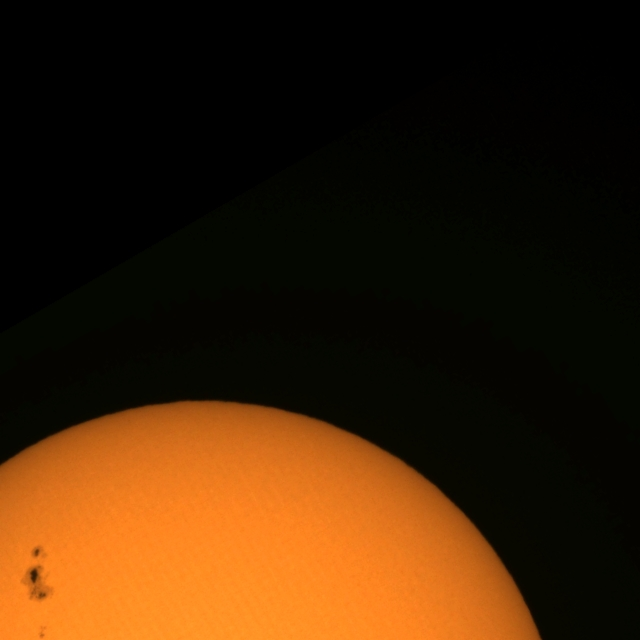sunspot: (19, 563, 56, 604), (27, 544, 49, 574), (37, 624, 47, 640)
